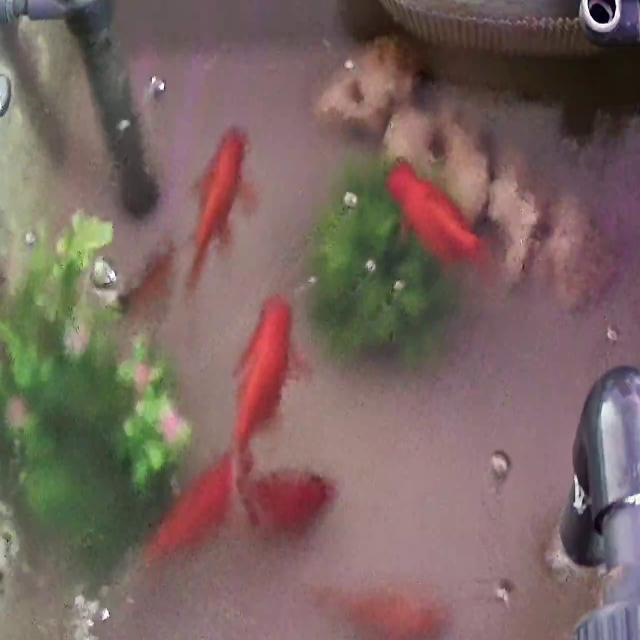fish: (186, 125, 258, 293), (230, 293, 296, 472), (136, 450, 236, 566), (388, 160, 489, 270), (323, 581, 433, 640), (242, 466, 332, 536), (116, 240, 179, 321)
